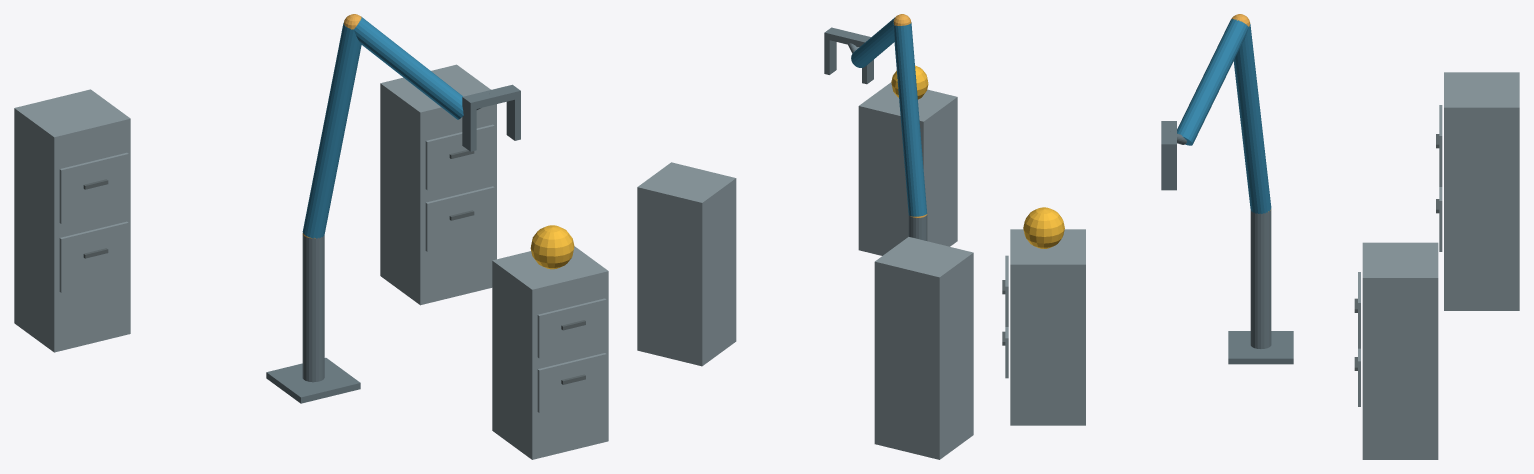
3 renders of one model, left to right at view 1: azimuth 30°, elevation 25°; view 2: azimuth 150°, elevation 25°; view 3: azimuth 270°, elevation 25°, orthographic. The views are drawn at different scales.
Parts seen in each view (by area): view 1: cabinet_3 body, cabinet_2 body, cabinet_1 body, moving link 1, cabinet_3 drawer front.001, cabinet_3 drawer front, cabinet_2 drawer front, fixed post, cabinet_2 drawer front.001, cabinet_1 drawer front.001, cabinet_1 drawer front, moving link 2 (+4 smaller); view 2: cabinet_3 body, cabinet_2 body, cabinet_1 body, moving link 1, moving link 2, gripper bridge, ball ball_1, fixed post, gripper finger 1; view 3: cabinet_3 body, cabinet_2 body, cabinet_1 body, moving link 1, fixed post, moving link 2, pedestal, ball ball_1, gripper finger 1.
Part boxes in pixels (x1=…): cabinet_3 body: x1=14, y1=89, x2=130, y2=352; cabinet_2 body: x1=380, y1=64, x2=496, y2=305; cabinet_1 body: x1=492, y1=246, x2=608, y2=459; moving link 1: x1=302, y1=22, x2=361, y2=238; cabinet_3 drawer front.001: x1=59, y1=152, x2=128, y2=223; cabinet_3 drawer front: x1=59, y1=221, x2=128, y2=292; cabinet_2 drawer front: x1=425, y1=186, x2=494, y2=251; fixed post: x1=302, y1=235, x2=324, y2=382; cabinet_2 drawer front.001: x1=425, y1=124, x2=494, y2=190; cabinet_1 drawer front.001: x1=537, y1=298, x2=606, y2=358; cabinet_1 drawer front: x1=537, y1=353, x2=606, y2=412; moving link 2: x1=353, y1=16, x2=463, y2=119; cabinet_3 body: x1=874, y1=237, x2=973, y2=459; cabinet_2 body: x1=637, y1=162, x2=736, y2=366; cabinet_1 body: x1=858, y1=82, x2=957, y2=255; moving link 1: x1=893, y1=22, x2=927, y2=216; moving link 2: x1=851, y1=17, x2=895, y2=67; gripper bridge: x1=824, y1=27, x2=870, y2=47; ball ball_1: x1=891, y1=65, x2=928, y2=99; fixed post: x1=908, y1=215, x2=927, y2=240; gripper finger 1: x1=824, y1=39, x2=836, y2=74; cabinet_3 body: x1=1444, y1=72, x2=1519, y2=310; cabinet_2 body: x1=1362, y1=242, x2=1438, y2=459; cabinet_1 body: x1=1010, y1=229, x2=1085, y2=425; moving link 1: x1=1233, y1=24, x2=1271, y2=213; fixed post: x1=1250, y1=209, x2=1271, y2=348; moving link 2: x1=1177, y1=19, x2=1248, y2=145; pedestal: x1=1228, y1=331, x2=1293, y2=364; ball ball_1: x1=1023, y1=207, x2=1064, y2=248; gripper finger 1: x1=1161, y1=151, x2=1176, y2=190.
Size of the model in its own units: 1.67 by 1.48 by 1.98.
